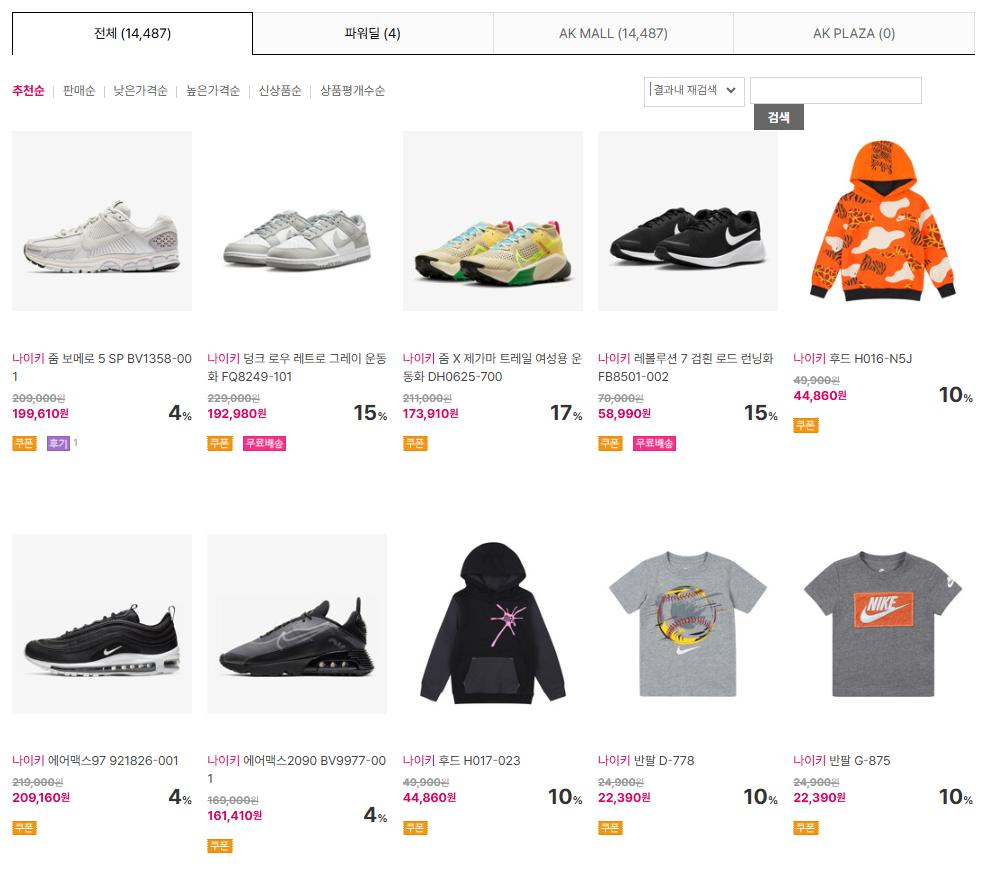button: (740, 7, 973, 57), (13, 13, 249, 59), (503, 12, 727, 52), (254, 13, 493, 50), (316, 76, 392, 105), (184, 76, 246, 108), (256, 73, 306, 108), (111, 76, 172, 104), (754, 106, 808, 133), (7, 76, 53, 103), (59, 82, 103, 103)
checkbox: (646, 73, 750, 111)
input_field: (756, 73, 924, 104)
